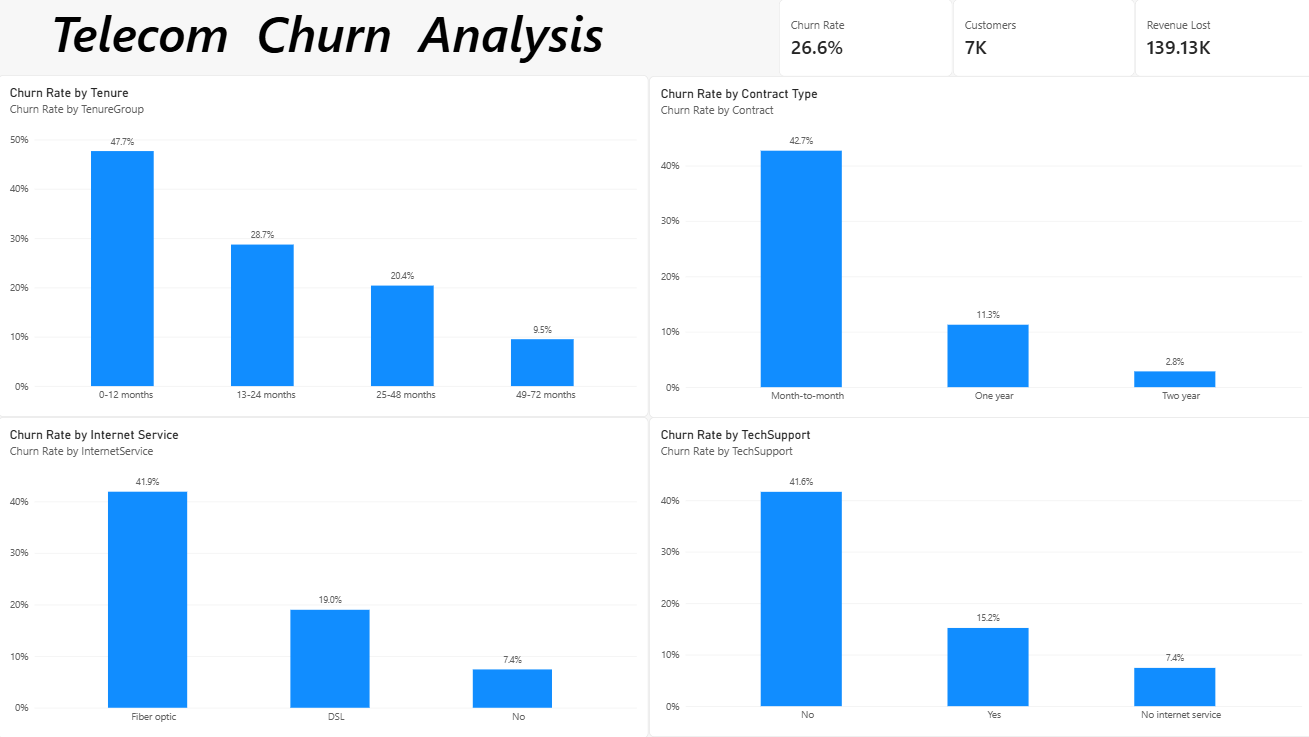

What the dashboard file says about the page in this screenshot:
{"tool":"powerbi","page":{"name":"Page 1","canvas":[1920,1080],"ordinal":0},"visuals":[{"type":"cardVisual","fields":{"Data":["telco_churn_clean.Churn Rate"]},"box":[1139.5,0,253.9,113.8],"z":0},{"type":"cardVisual","fields":{"Data":["telco_churn_clean.Customers"]},"box":[1393.3,0,265.5,113.8],"z":1000},{"type":"cardVisual","fields":{"Data":["telco_churn_clean.Revenue Lost"]},"box":[1658.8,0,261.2,113.8],"z":2000},{"type":"clusteredColumnChart","title":"Churn Rate by Contract Type","fields":{"Category":["telco_churn_clean.Contract"],"Y":["telco_churn_clean.Churn Rate"]},"box":[949.8,112.3,970.2,499],"z":3000},{"type":"clusteredColumnChart","title":"Churn Rate by Tenure","fields":{"Category":["telco_churn_clean.TenureGroup"],"Y":["telco_churn_clean.Churn Rate"]},"box":[0,110.9,949.2,498.9],"z":4000},{"type":"clusteredColumnChart","title":"Churn Rate by Internet Service","fields":{"Category":["telco_churn_clean.InternetService"],"Y":["telco_churn_clean.Churn Rate"]},"box":[0,609.4,949.2,469.2],"z":5000},{"type":"clusteredColumnChart","title":"Churn Rate by TechSupport","fields":{"Category":["telco_churn_clean.TechSupport"],"Y":["telco_churn_clean.Churn Rate"]},"box":[949.8,609.8,970.2,466.9],"z":6000},{"type":"textbox","box":[99.2,539.8,217.4,51.1],"z":7000},{"type":"textbox","box":[100,100,300,300],"z":8000},{"type":"textbox","box":[0,0,960,112.3],"z":9000}]}

Visuals, with their boxes in screenshot pixels (x1, y1, x2, y2), scaled from the page's 1920x1080 canvas onto the 1309x737 screenshot:
cardVisual - telco_churn_clean.Churn Rate: <box>777,0,950,78</box>
cardVisual - telco_churn_clean.Customers: <box>950,0,1131,78</box>
cardVisual - telco_churn_clean.Revenue Lost: <box>1131,0,1308,78</box>
"Churn Rate by Contract Type" clusteredColumnChart: <box>648,77,1308,417</box>
"Churn Rate by Tenure" clusteredColumnChart: <box>0,76,647,416</box>
"Churn Rate by Internet Service" clusteredColumnChart: <box>0,416,647,736</box>
"Churn Rate by TechSupport" clusteredColumnChart: <box>648,416,1308,735</box>
textbox: <box>68,368,216,403</box>
textbox: <box>68,68,273,273</box>
textbox: <box>0,0,654,77</box>
